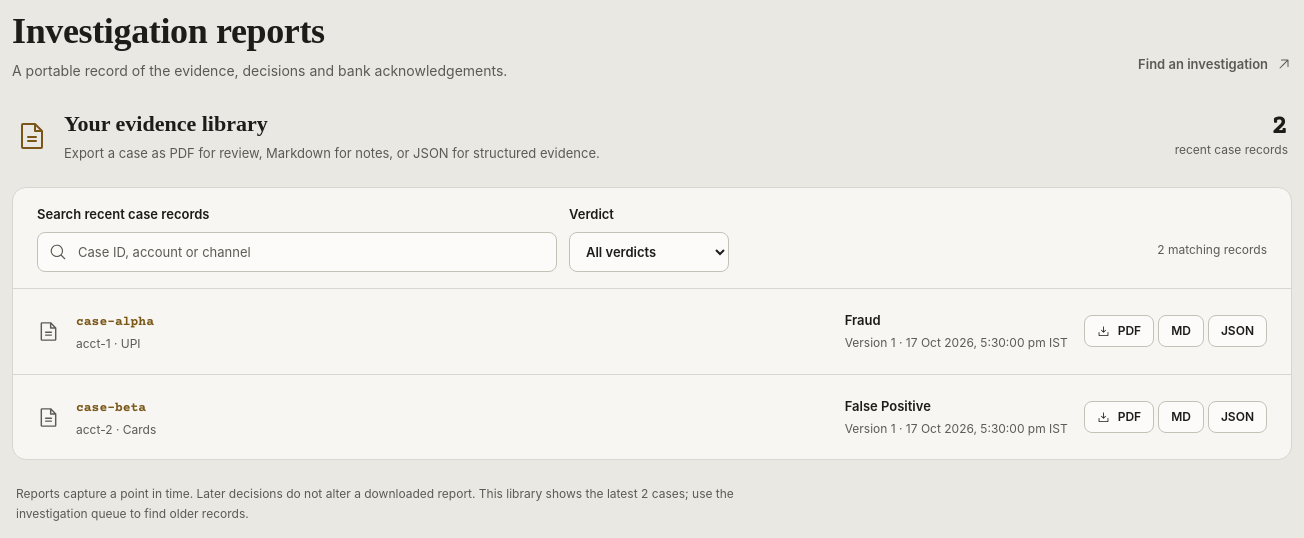
it: combines case-library search and verdict filters without losing export actions
Type "acct-2" into the field labelled "Search recent case records" at (297, 252), box [37,232,557,272]
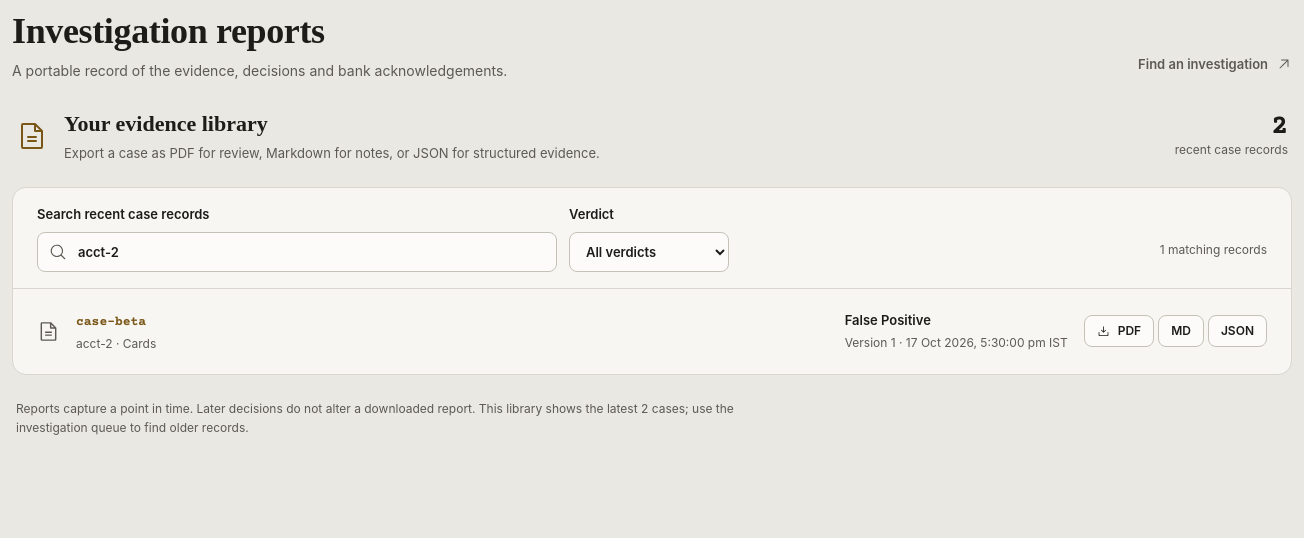
Expected: the link "case-beta" is shown, [76,315,146,329]
Expected: the link "case-alpha" is gone
Select "fraud" in the dropdown labelled "Verdict" at (649, 252), box [569,232,729,272]
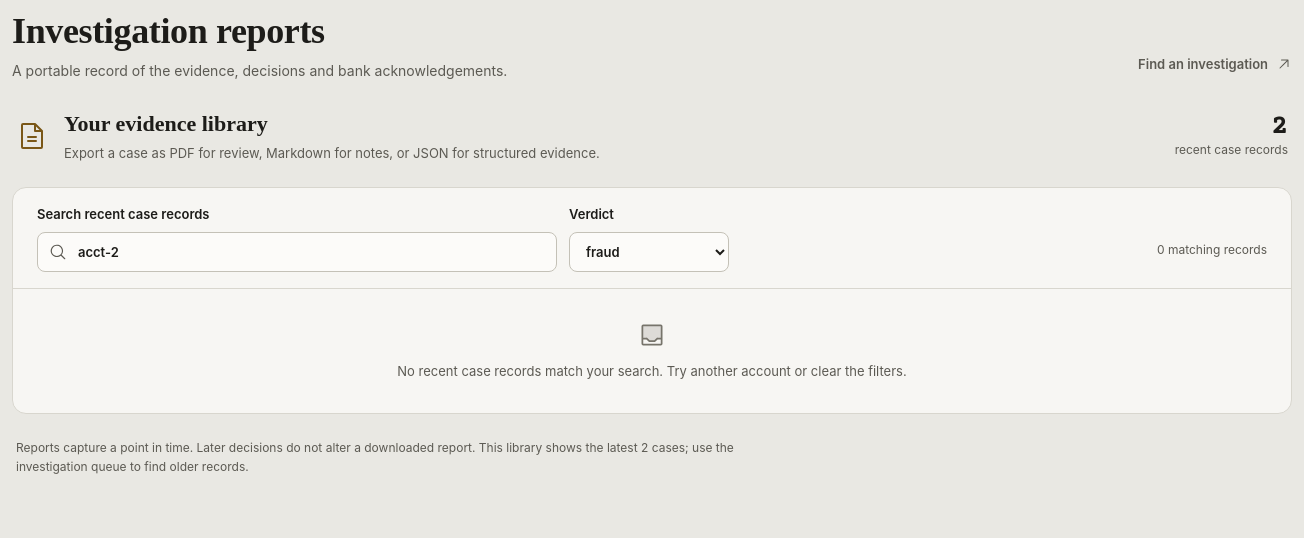
Expected: the text "No recent case records match" is shown, [397,363,907,379]
